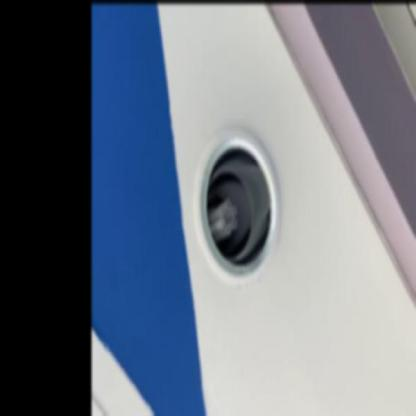light_off: (188, 94, 290, 299)
